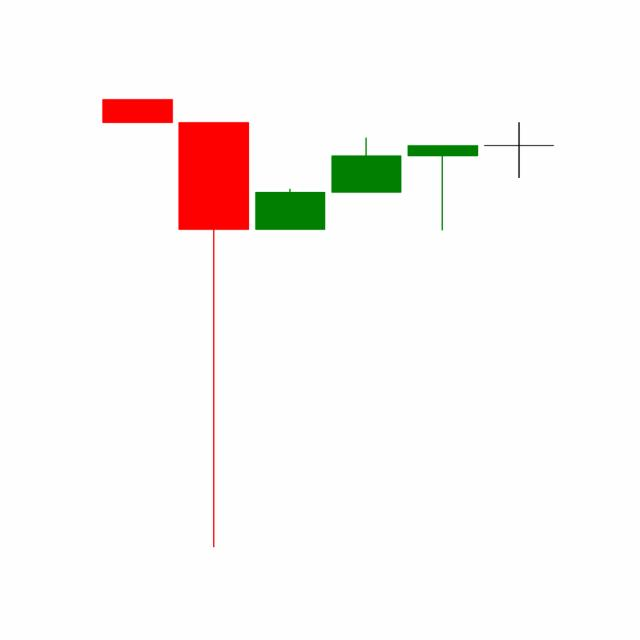Hammer: (403, 144, 481, 232)
